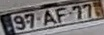7: (23, 12, 35, 30), (70, 4, 82, 21), (81, 2, 92, 19)
9: (12, 14, 26, 31)
A: (42, 9, 58, 27)
F: (53, 7, 66, 24)
